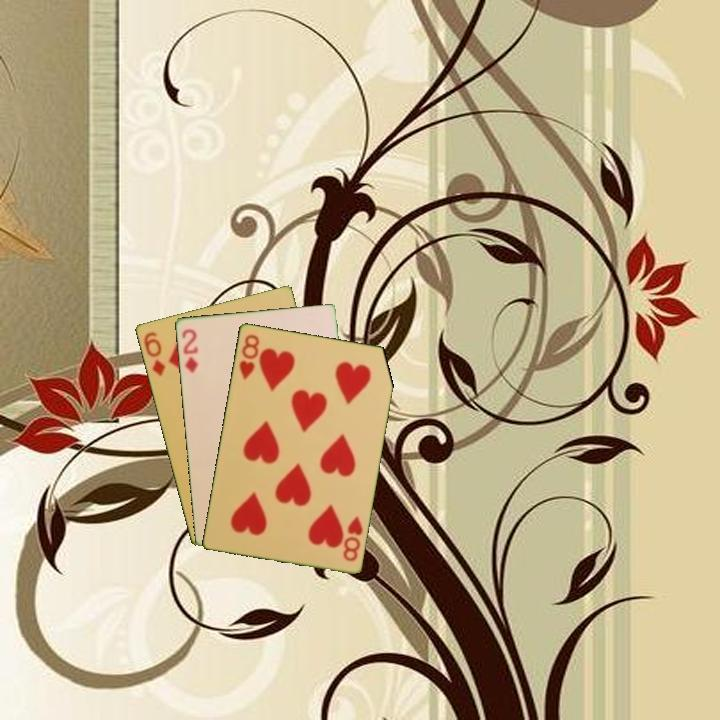2d: (178, 325, 200, 375)
6d: (140, 328, 168, 379)
8h: (235, 330, 262, 382), (339, 512, 365, 564)
